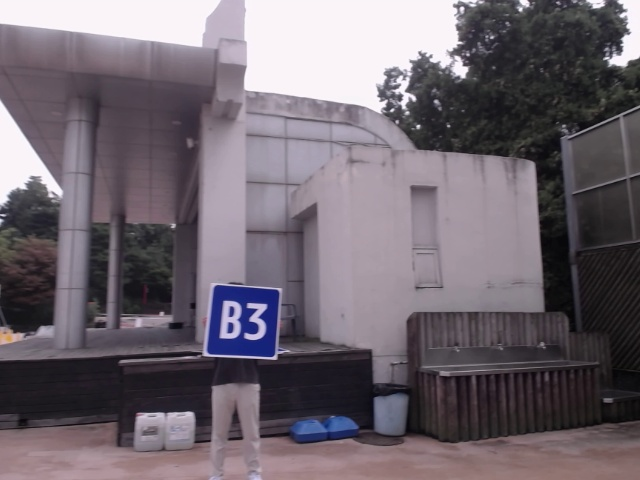delivery_b3: (206, 284, 280, 360)
